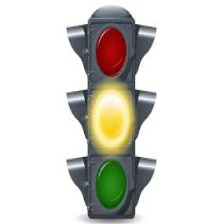semaforo: (87, 18, 135, 219)
